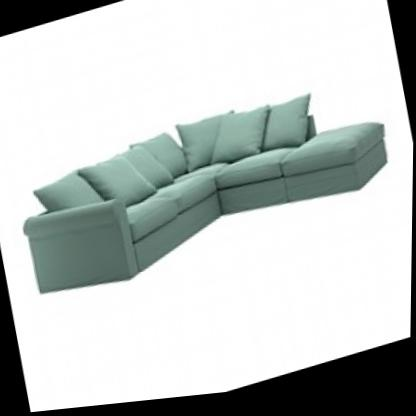Sofa: (1, 61, 406, 329)
